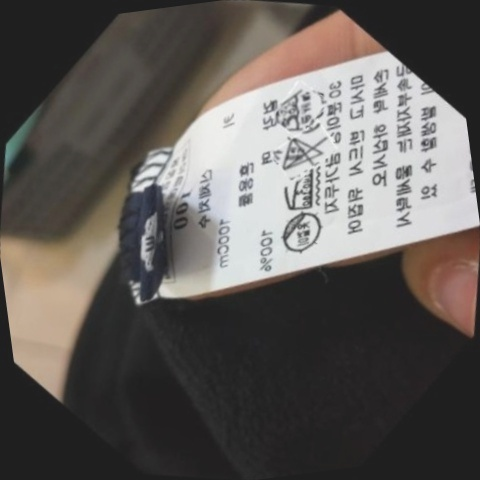hand_wash: (269, 79, 325, 137)
iron_medium: (273, 166, 322, 216)
line_dry_in_shade: (269, 201, 332, 263)
non_chlorine_bleach: (275, 129, 330, 177)
